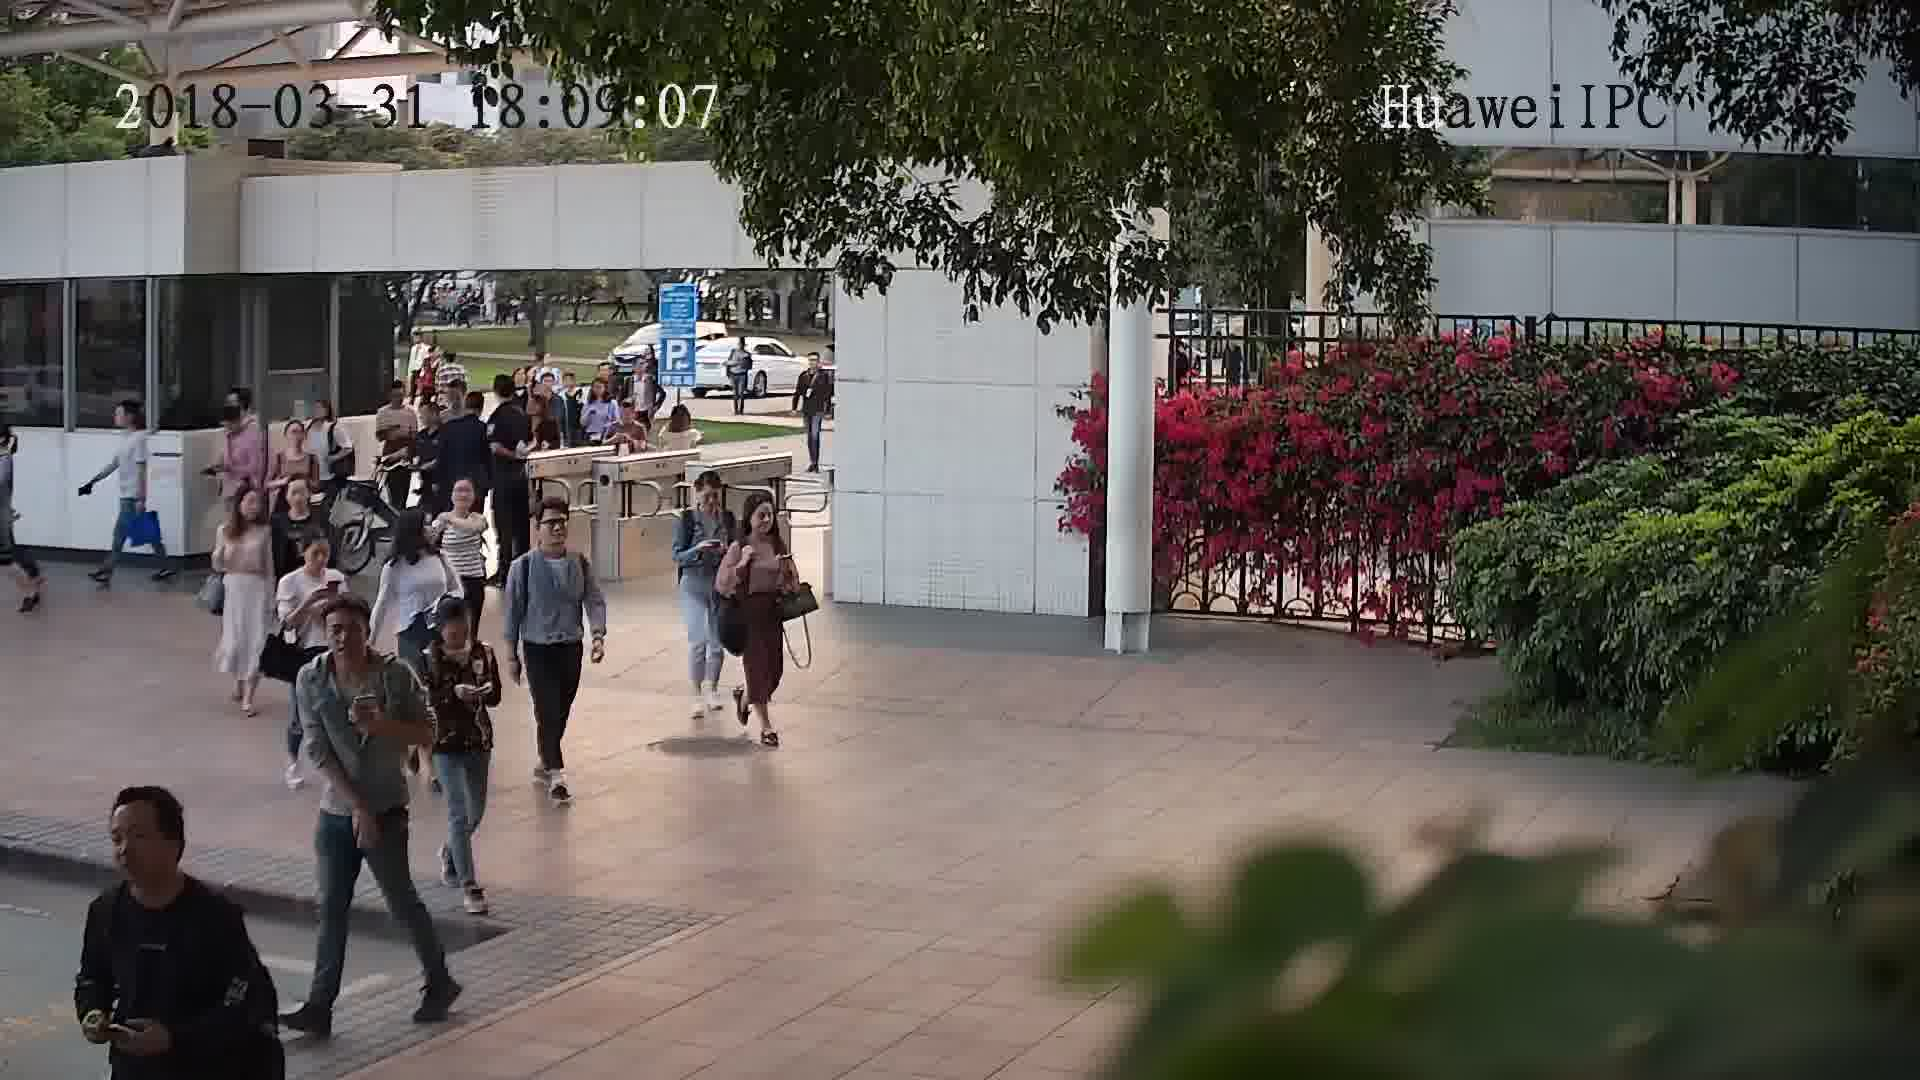face: (96, 800, 184, 888), (319, 611, 376, 667), (535, 500, 571, 549), (747, 495, 777, 541)
person: (85, 782, 240, 936), (294, 599, 407, 694), (412, 593, 499, 671), (511, 494, 592, 576), (377, 506, 450, 581), (277, 529, 346, 589), (676, 468, 737, 536), (731, 491, 789, 559), (213, 483, 280, 541), (433, 472, 495, 532), (270, 474, 331, 532), (211, 389, 265, 450), (272, 414, 320, 468), (109, 391, 151, 451), (488, 371, 531, 426), (444, 385, 491, 437), (407, 394, 453, 445), (302, 393, 347, 445), (370, 375, 416, 423), (660, 400, 704, 442), (581, 374, 620, 421), (607, 398, 647, 436), (535, 369, 570, 409), (798, 349, 835, 381), (406, 327, 435, 363), (512, 364, 536, 400), (728, 333, 754, 360)
